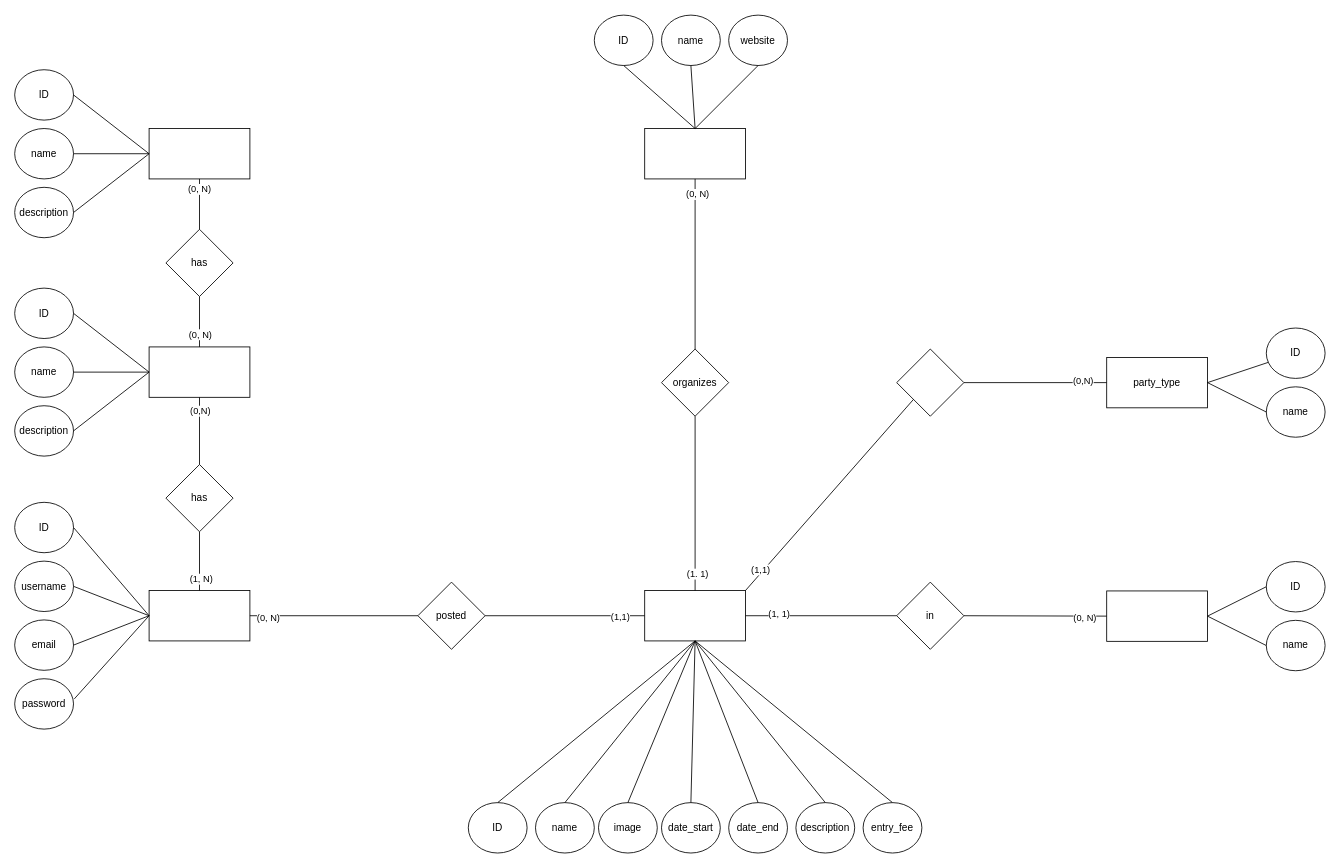
Some shapes in this 1340 by 868 pixel diagram are drawn without their labels. The shapes that lost their labels are listed below. From the top down, each one's centre as x and y in pixels, then its label:
(x=199, y=153): permissions
(x=695, y=153): organizer
(x=199, y=371): roles
(x=930, y=382): is
(x=199, y=615): users
(x=695, y=615): parties
(x=1157, y=615): country
